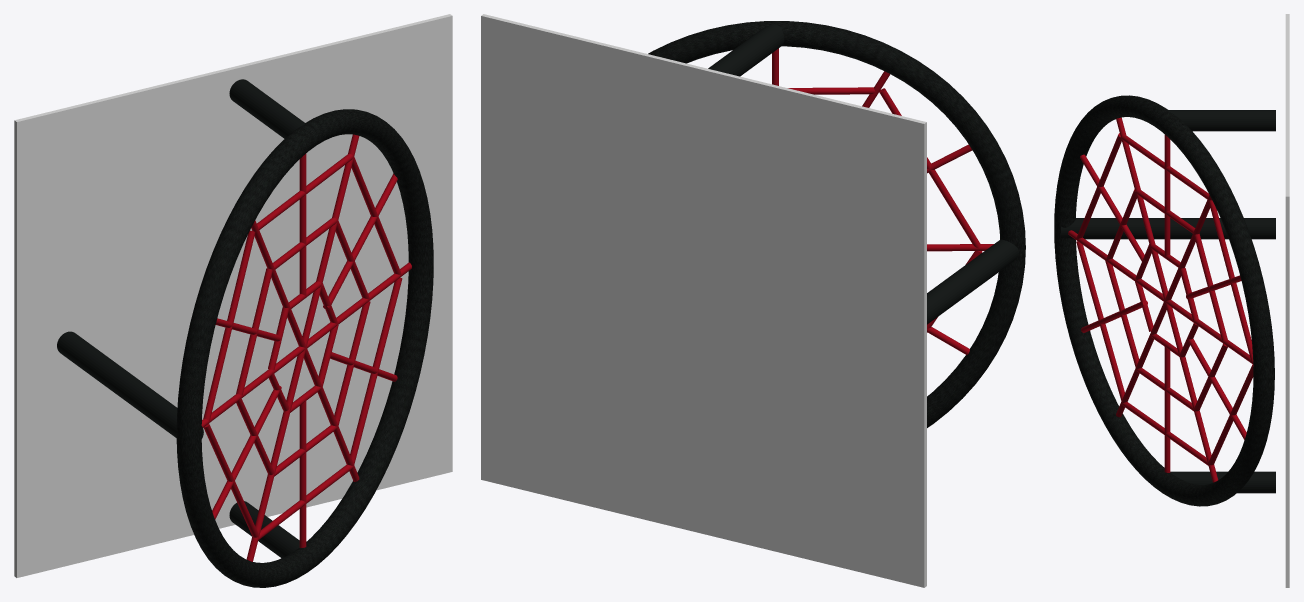
Rendered from канатный комплекс с подложкой.glb.
3 views of the same model, side by side, from view 1: azimuth 30°, elevation 25°; view 2: azimuth 150°, elevation 25°; view 3: azimuth 270°, elevation 25° (orthographic). The views are drawn at different scales.
Parts seen in each view (by area): view 1: Куб, Тор; view 2: Куб, Тор; view 3: Тор, Куб.
Part boxes in pixels (<box>): Куб: <box>14,14,452,577</box>; Тор: <box>57,79,433,587</box>; Куб: <box>481,14,926,587</box>; Тор: <box>648,21,1025,427</box>; Тор: <box>1054,95,1275,506</box>; Куб: <box>1285,14,1289,587</box>.
Size of the model in its own units: 4 by 4 by 2.18.
Materials: 2 (2 with a texture image).
